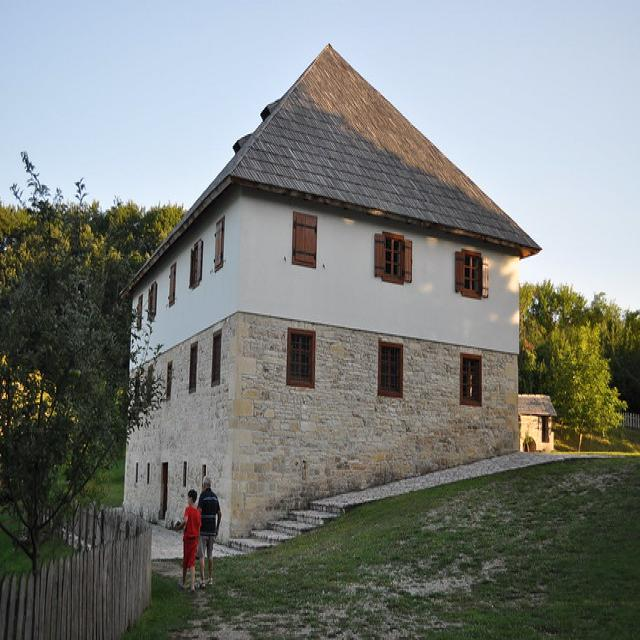Normal_building: (112, 40, 544, 553)
